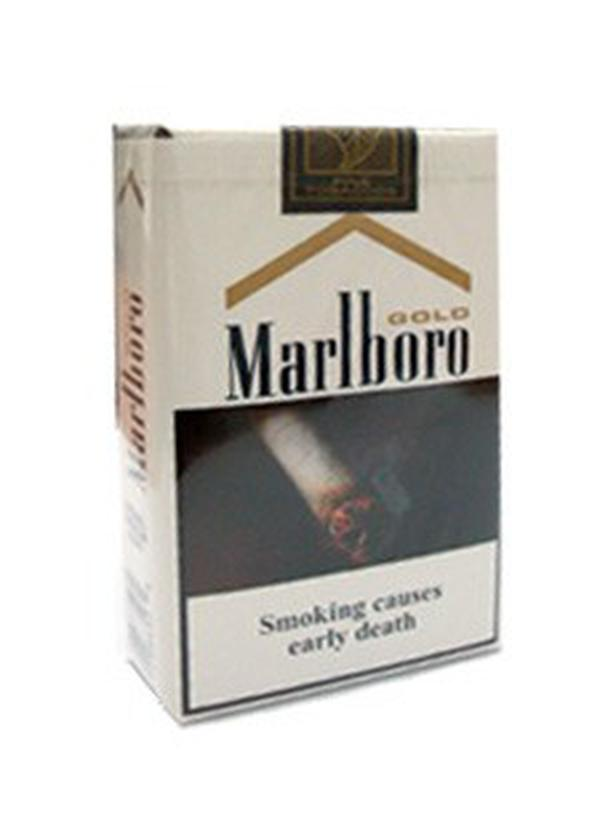marlboro_gold: (170, 128, 493, 649)
